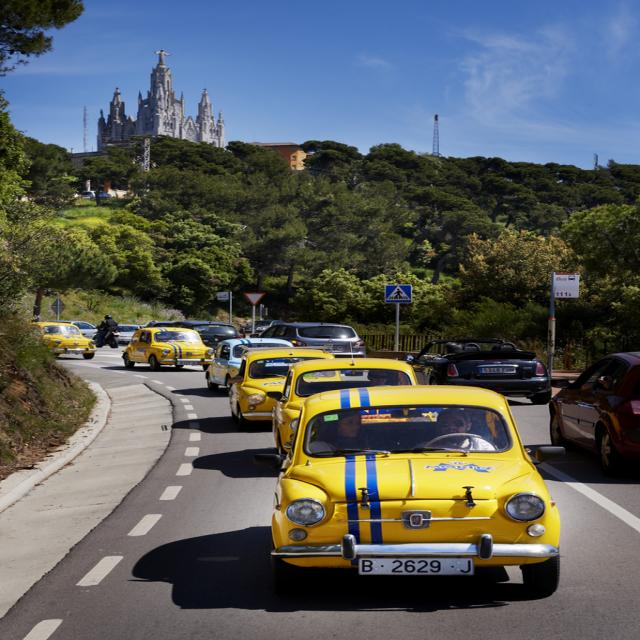car: (266, 382, 565, 594)
